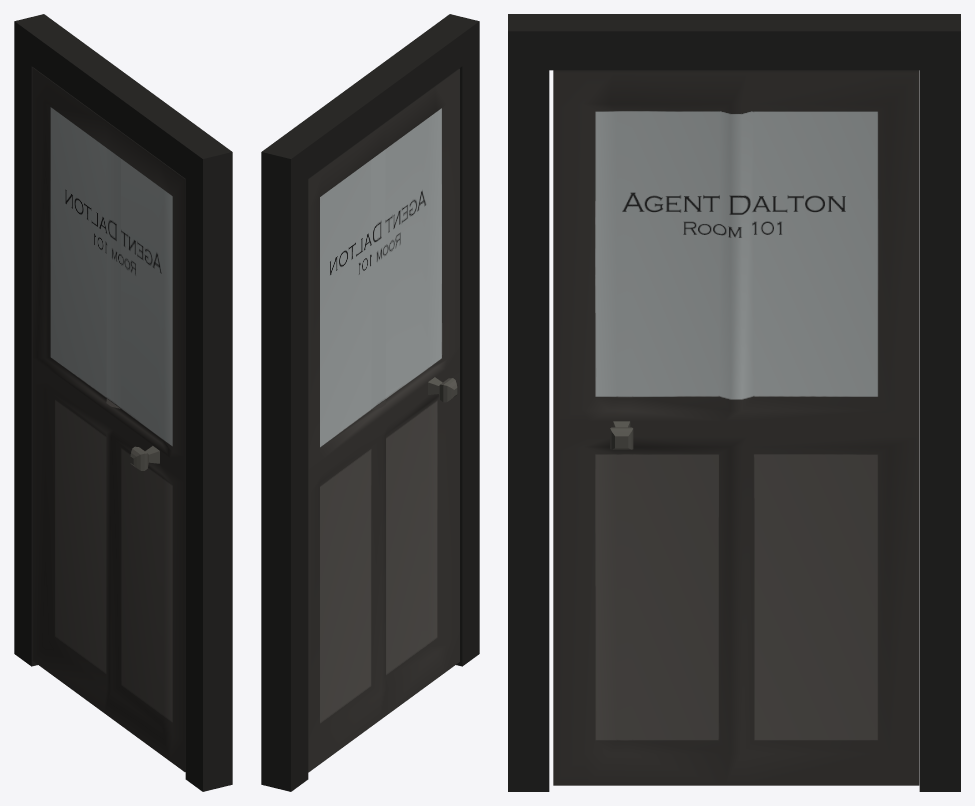
Rendered from FrostyDoor.fbx.
3 renders of one model, left to right at view 1: azimuth 30°, elevation 25°; view 2: azimuth 150°, elevation 25°; view 3: azimuth 270°, elevation 25°, orthographic. The views are drawn at different scales.
Parts seen in each view (by area): view 1: Door2, DoorFrame; view 2: Door2, DoorFrame; view 3: Door2, DoorFrame.
Part boxes in pixels (<box>): Door2: <box>32,67,185,771</box>; DoorFrame: <box>14,14,232,791</box>; Door2: <box>308,68,459,772</box>; DoorFrame: <box>261,14,479,791</box>; Door2: <box>553,70,919,785</box>; DoorFrame: <box>508,14,960,791</box>.
Bounding box in the file's own units: 25.79 × 204 × 110.
